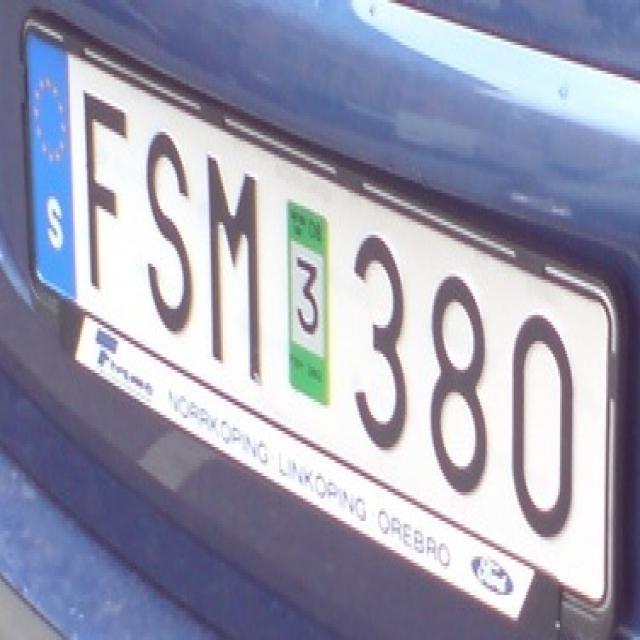LicensePlate: (9, 2, 623, 640)
